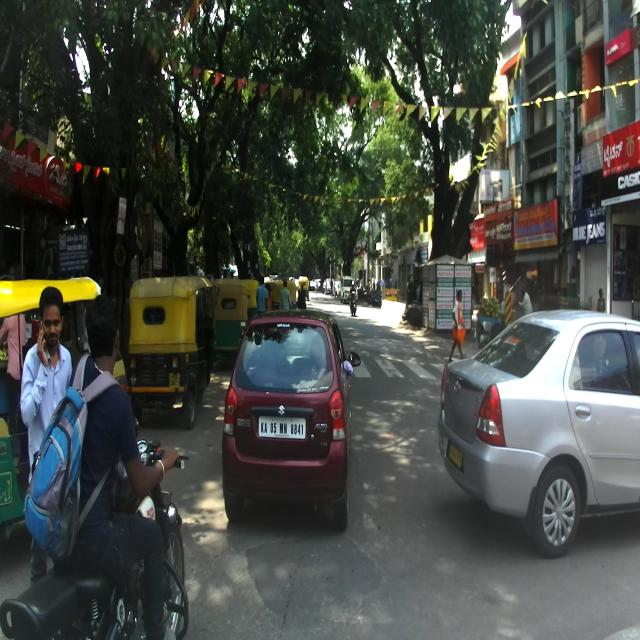car ahead at: (437, 305, 640, 553), (219, 309, 360, 527)
motorcycle ahead at: (13, 491, 196, 640)
